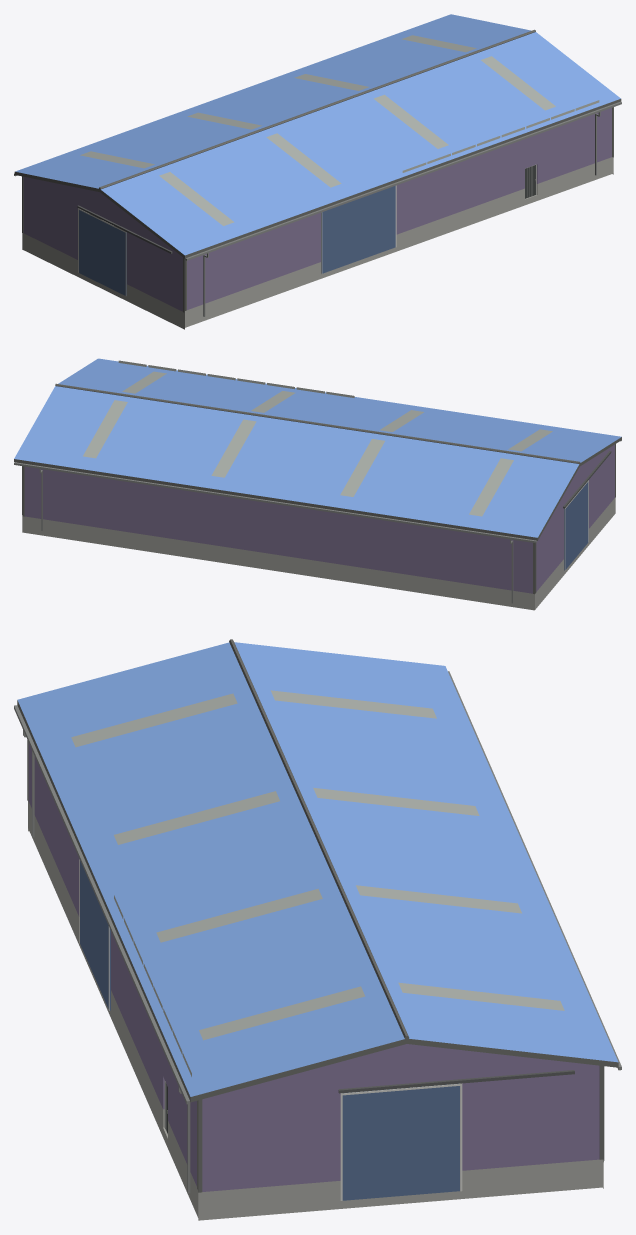
File: fb_barn_537.glb
The picture shows the model from 3 angles, top to bottom: view 1: azimuth 30°, elevation 25°; view 2: azimuth 150°, elevation 25°; view 3: azimuth 270°, elevation 25°; orthographic projection. The views are drawn at different scales.
Visible parts, largest first — view 1: vh_roof, vh_sheet, vh_plinth, vh_door, vh_light, vh_trim, vh_frames_small; view 2: vh_roof, vh_sheet, vh_plinth, vh_light, vh_trim, vh_frames_small, vh_door; view 3: vh_roof, vh_sheet, vh_door, vh_light, vh_plinth, vh_trim, vh_frames_small, vh_metal_small.
Boxes of the visible parts, left/top/right/bottom form: vh_roof: left=15, top=14, right=620, bottom=255; vh_sheet: left=23, top=108, right=611, bottom=311; vh_plinth: left=22, top=157, right=613, bottom=329; vh_door: left=79, top=186, right=395, bottom=295; vh_light: left=80, top=35, right=599, bottom=225; vh_trim: left=14, top=29, right=621, bottom=312; vh_frames_small: left=14, top=101, right=621, bottom=316; vh_roof: left=14, top=358, right=621, bottom=537; vh_sheet: left=24, top=444, right=614, bottom=593; vh_plinth: left=22, top=498, right=615, bottom=610; vh_light: left=83, top=360, right=552, bottom=516; vh_trim: left=14, top=383, right=621, bottom=594; vh_frames_small: left=14, top=440, right=621, bottom=603; vh_door: left=564, top=482, right=588, bottom=570; vh_roof: left=17, top=642, right=618, bottom=1096; vh_sheet: left=28, top=743, right=599, bottom=1191; vh_door: left=80, top=860, right=459, bottom=1200; vh_light: left=71, top=690, right=564, bottom=1076; vh_plinth: left=28, top=801, right=603, bottom=1220; vh_trim: left=17, top=639, right=618, bottom=1200; vh_frames_small: left=14, top=671, right=621, bottom=1193; vh_metal_small: left=167, top=1070, right=574, bottom=1113.
Bounding box in the file's own units: 37.66 × 7.06 × 22.46.
